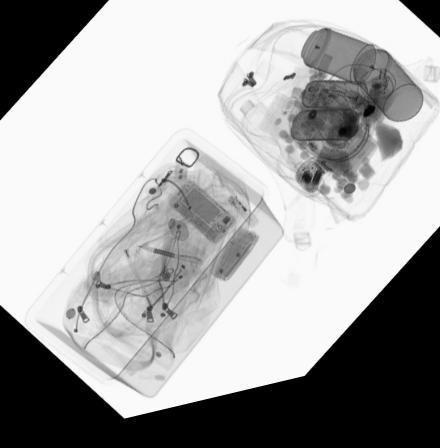Lighter: (225, 204, 258, 242)
